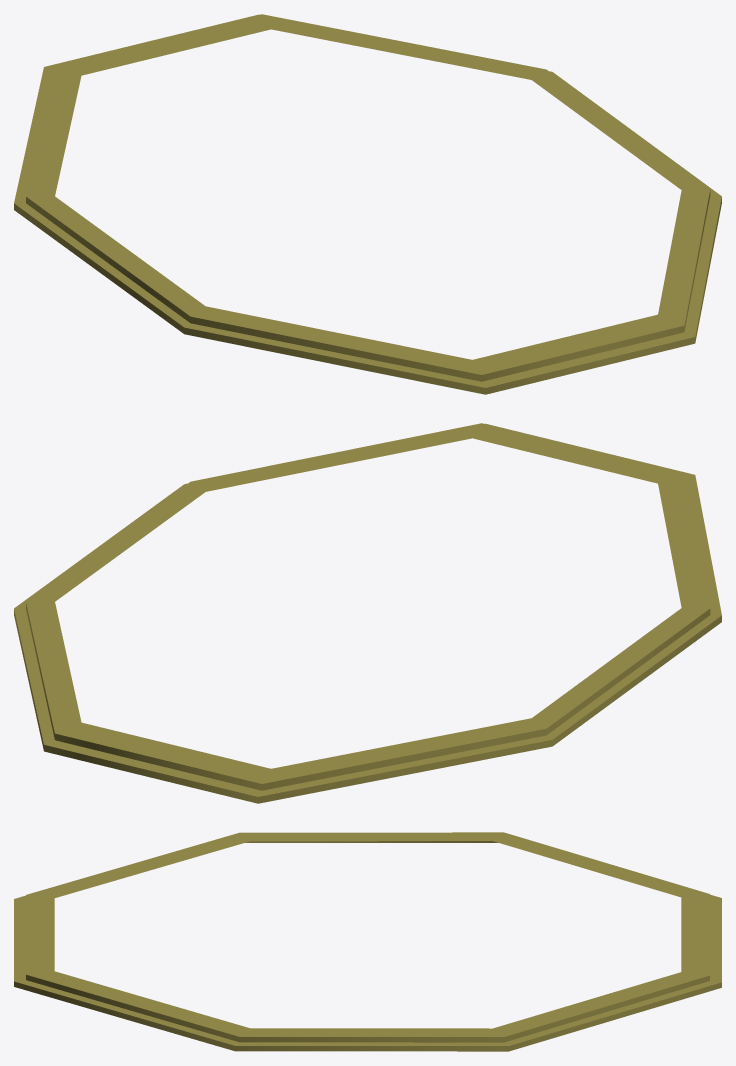
The model's file is Stairs_1_Low.fbx.
The picture shows the model from 3 angles, top to bottom: view 1: azimuth 30°, elevation 25°; view 2: azimuth 150°, elevation 25°; view 3: azimuth 270°, elevation 25°; orthographic projection. The views are drawn at different scales.
Parts seen in each view (by area): view 1: Central_stairs_1; view 2: Central_stairs_1; view 3: Central_stairs_1.
Boxes of the visible parts, x1,y1,x2,y2 form: Central_stairs_1: (14, 14, 721, 394); Central_stairs_1: (14, 423, 721, 803); Central_stairs_1: (14, 832, 721, 1051).
Size of the model in its own units: 43.04 by 1.03 by 60.81.
